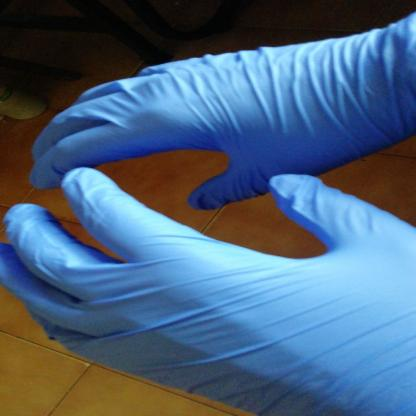gloved_hand: (2, 166, 415, 416), (25, 10, 416, 212)
